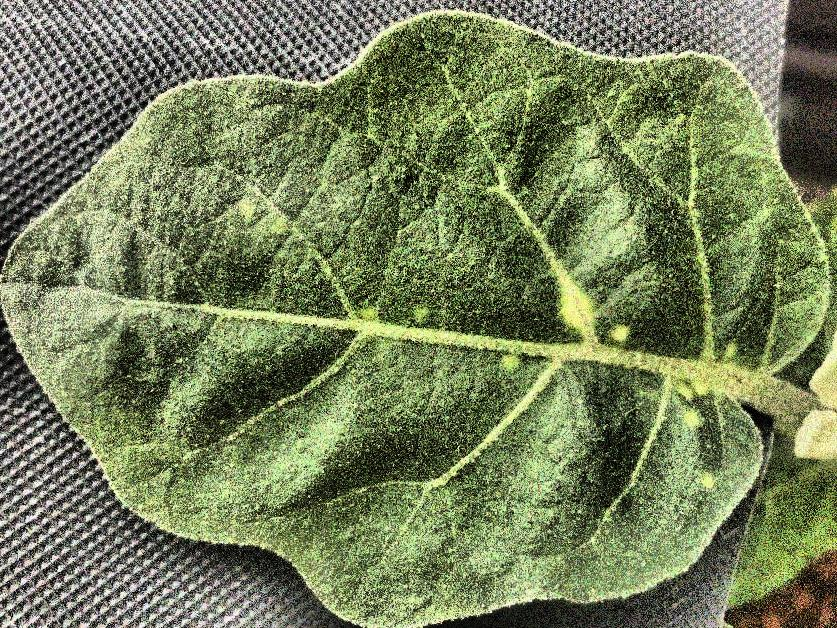HEALTHY: (1, 0, 837, 628)
